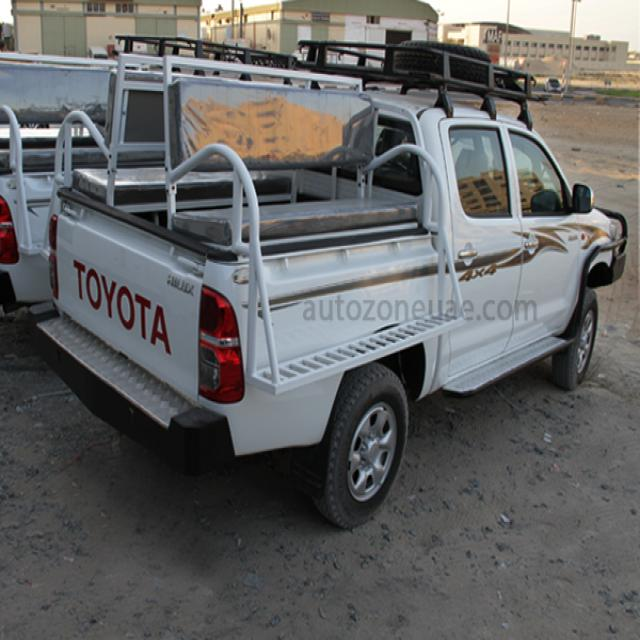light_vehicle: (44, 21, 631, 526)
